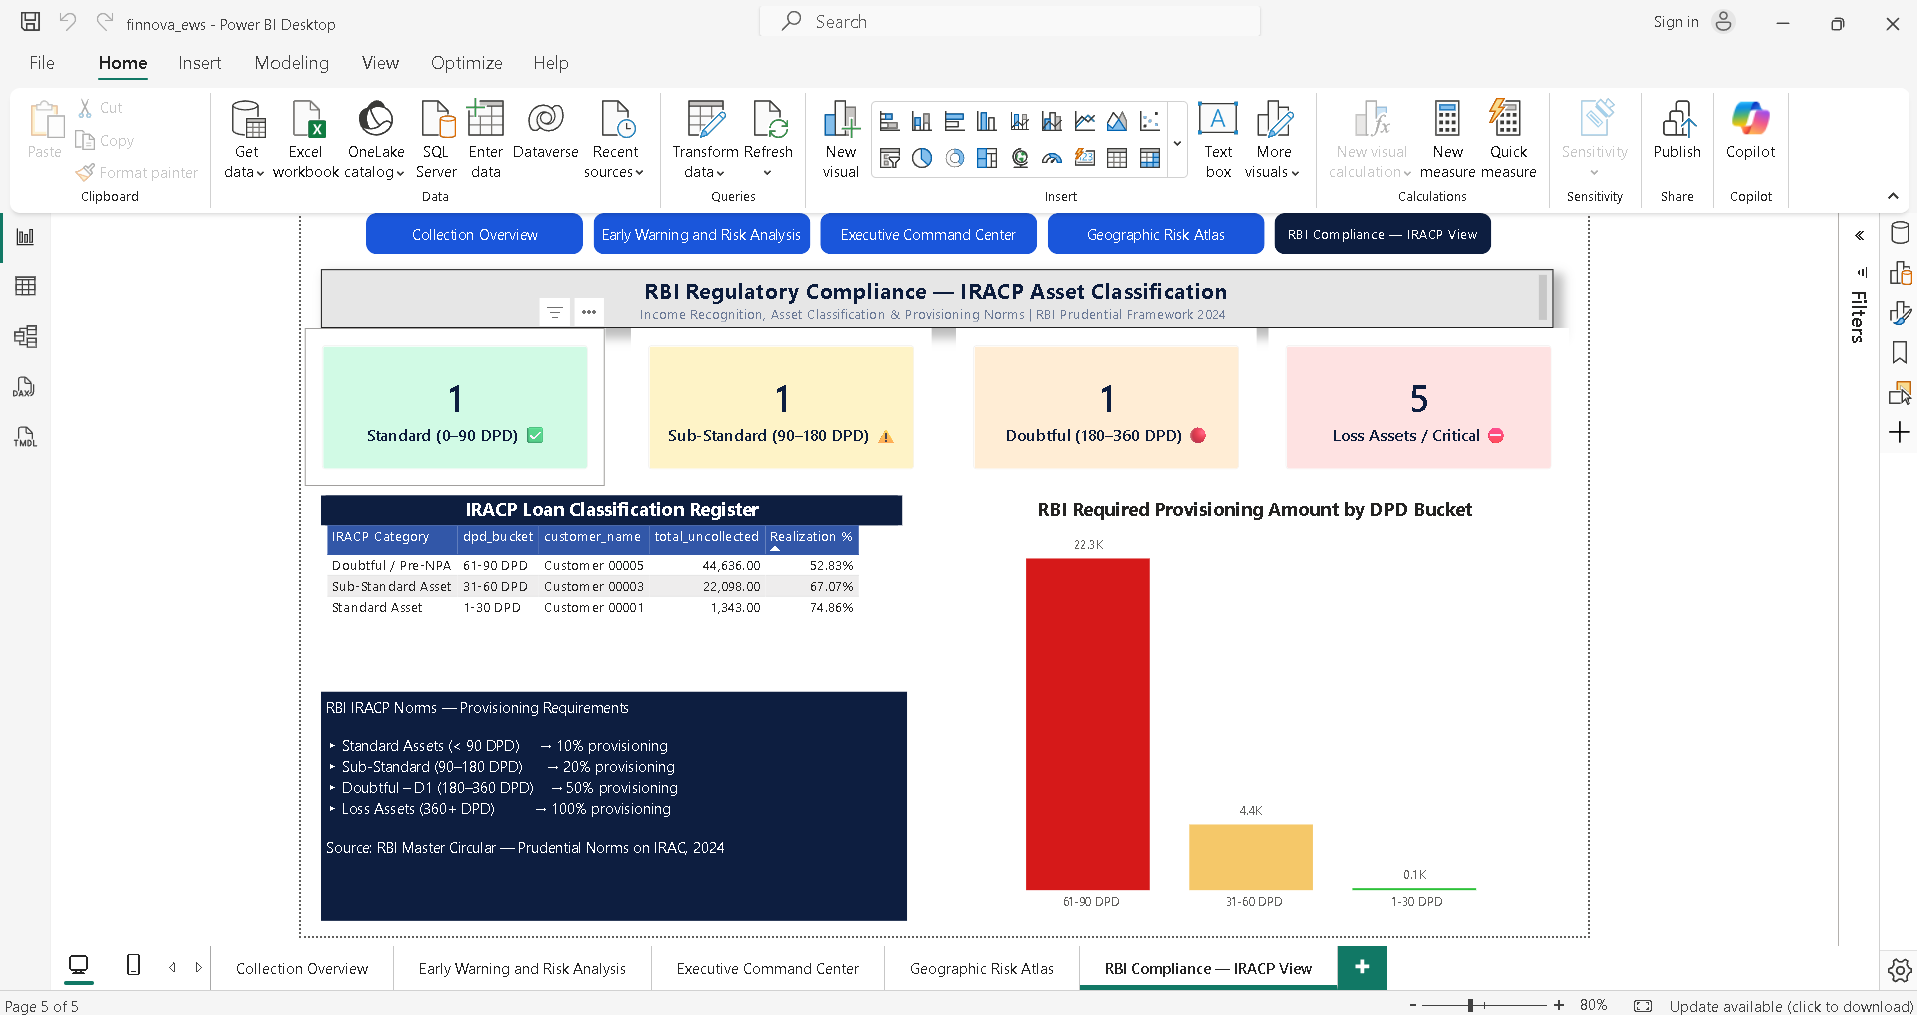

The dashboard page shown, as its layout file describes it:
{"tool":"powerbi","page":{"name":"RBI Compliance — IRACP View","canvas":[1280,720],"ordinal":4},"visuals":[{"type":"textbox","box":[19.9,56,1226.5,58.5],"z":1000},{"type":"cardVisual","fields":{"Data":["public vw_collection_priority.Standard Assets"]},"box":[3.8,115,299,158],"z":2000},{"type":"cardVisual","fields":{"Data":["public vw_collection_priority.Sub-Standard Assets"]},"box":[328,115,299,158],"z":3000},{"type":"cardVisual","fields":{"Data":["public vw_collection_priority.Doubtful Assets"]},"box":[652.1,115,299,158],"z":4000},{"type":"cardVisual","fields":{"Data":["public vw_collection_channel.Critical Risk Accounts"]},"box":[963.2,115,299,158],"z":5000},{"type":"tableEx","title":"IRACP Loan Classification Register","fields":{"Values":["public vw_collection_priority.IRACP Category","public vw_collection_priority.dpd_bucket","public vw_collection_priority.customer_name","public vw_collection_priority.total_uncollected","public vw_collection_priority.Realization %"]},"box":[19.9,281.1,578.4,196.5],"z":6000},{"type":"clusteredColumnChart","title":"RBI Required Provisioning Amount by DPD Bucket","fields":{"Category":["public vw_collection_priority.dpd_bucket"],"Y":["public vw_collection_priority.Required Provisioning"]},"box":[651.8,281.1,594.6,422.9],"z":7000},{"type":"textbox","box":[20.2,476.1,582.9,228],"z":8000},{"type":"pageNavigator","box":[65,0,1121.2,41.2],"z":9000}]}

Visuals, with their boxes on the page's 1280x720 design canvas (x1, y1, x2, y2). These are canvas units, not pixel positions in the 1917x1015 screenshot, which may show the page scaled, cropped or inside an application window:
textbox: pyautogui.locateOnScreen(20, 56, 1246, 114)
cardVisual - public vw_collection_priority.Standard Assets: pyautogui.locateOnScreen(4, 115, 303, 273)
cardVisual - public vw_collection_priority.Sub-Standard Assets: pyautogui.locateOnScreen(328, 115, 627, 273)
cardVisual - public vw_collection_priority.Doubtful Assets: pyautogui.locateOnScreen(652, 115, 951, 273)
cardVisual - public vw_collection_channel.Critical Risk Accounts: pyautogui.locateOnScreen(963, 115, 1262, 273)
"IRACP Loan Classification Register" tableEx: pyautogui.locateOnScreen(20, 281, 598, 478)
"RBI Required Provisioning Amount by DPD Bucket" clusteredColumnChart: pyautogui.locateOnScreen(652, 281, 1246, 704)
textbox: pyautogui.locateOnScreen(20, 476, 603, 704)
pageNavigator: pyautogui.locateOnScreen(65, 0, 1186, 41)
